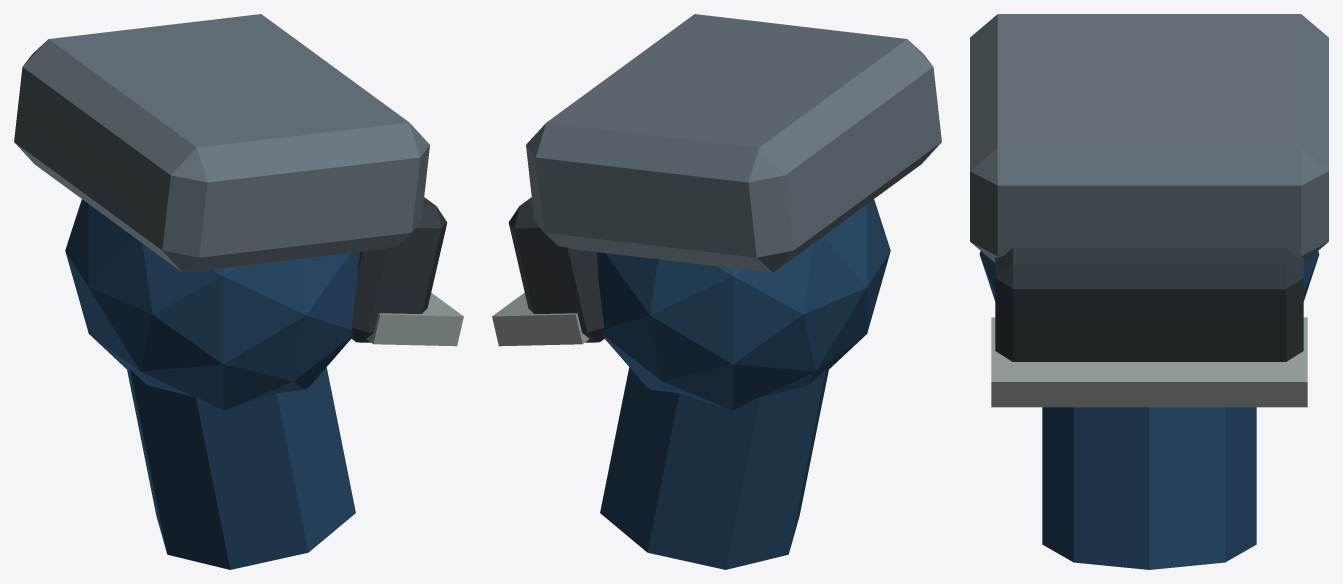
File: ArmRight.glb
The picture shows the model from 3 angles, left to right: view 1: azimuth 30°, elevation 25°; view 2: azimuth 150°, elevation 25°; view 3: azimuth 270°, elevation 25°; orthographic projection. The views are drawn at different scales.
Parts seen in each view (by area): view 1: Sculpture; view 2: Sculpture; view 3: Sculpture.
Boxes of the visible parts, left/top/right/bottom form: Sculpture: left=14, top=14, right=463, bottom=569; Sculpture: left=492, top=14, right=941, bottom=569; Sculpture: left=970, top=14, right=1328, bottom=569.
Size of the model in its own units: 0.28 by 0.4233 by 0.285.
